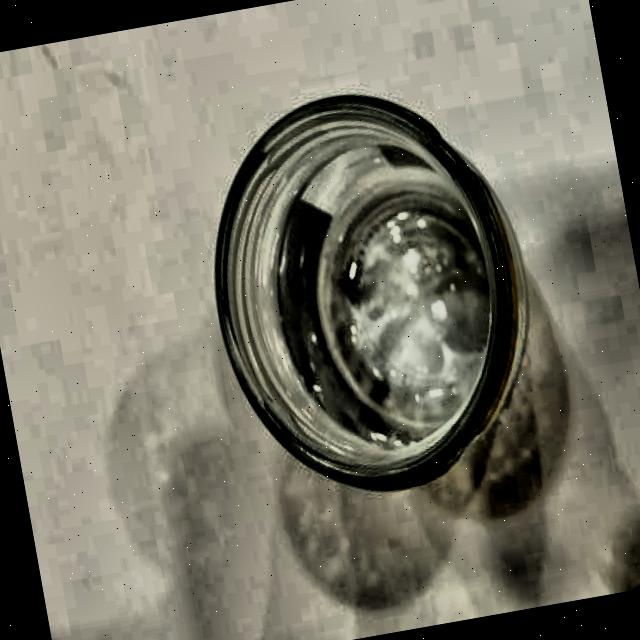glass: (184, 66, 554, 508)
